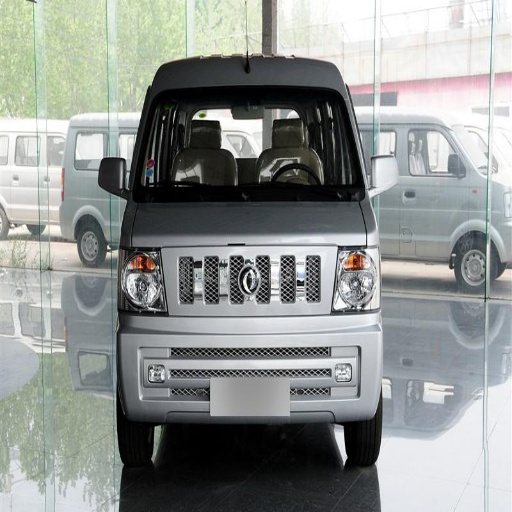back_glass: (150, 89, 342, 195)
back_left_door: (440, 165, 466, 238)
front_bumper: (122, 313, 382, 417)
front_right_light: (119, 254, 163, 313)
hood: (308, 202, 364, 247)
trunk: (408, 319, 509, 478), (134, 197, 328, 269)
